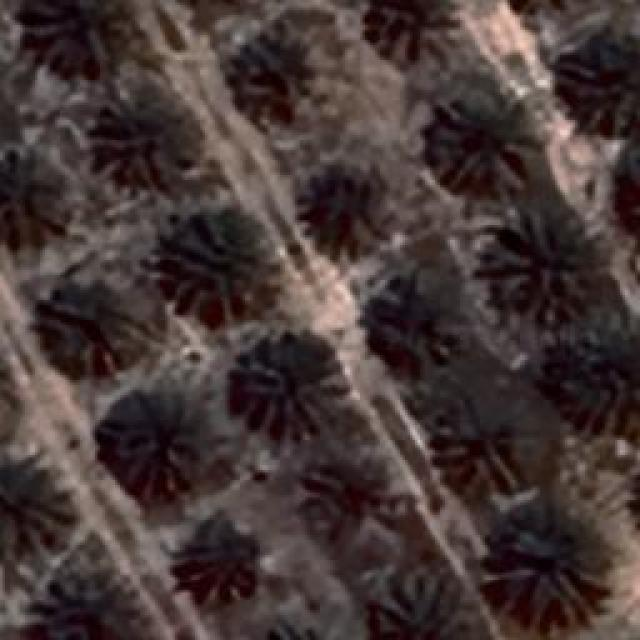PalmTree: (96, 388, 214, 496), (491, 515, 611, 620), (488, 208, 590, 320), (430, 92, 542, 192), (560, 310, 638, 432), (167, 222, 265, 316), (430, 400, 530, 490), (238, 341, 326, 439), (48, 282, 142, 370), (368, 278, 456, 372), (294, 158, 392, 242), (234, 37, 322, 125), (178, 520, 266, 605), (384, 562, 478, 640), (567, 35, 640, 135), (28, 0, 126, 72), (0, 455, 62, 565), (102, 100, 180, 182), (0, 152, 68, 242), (318, 465, 402, 533), (364, 0, 458, 60), (34, 592, 124, 640), (276, 607, 361, 640)
